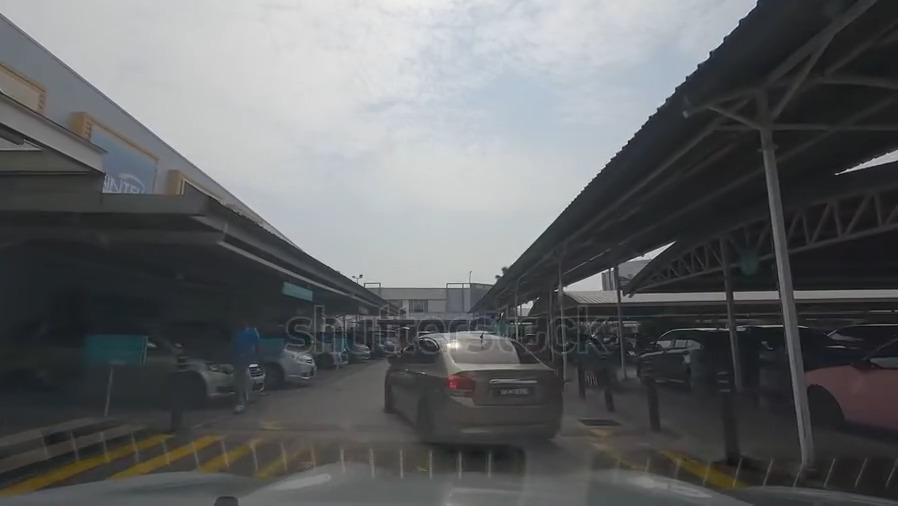car: (0, 321, 267, 401), (381, 332, 557, 442), (810, 343, 898, 429), (637, 331, 755, 387), (268, 337, 315, 383), (299, 335, 347, 370), (349, 340, 368, 362)
manhole: (576, 414, 619, 430)
pedestrian: (2, 442, 794, 495)
person: (233, 313, 252, 406)
speedbump: (201, 415, 647, 435)
wheel: (170, 368, 205, 408), (416, 398, 430, 441), (265, 363, 280, 387), (320, 353, 331, 368)
